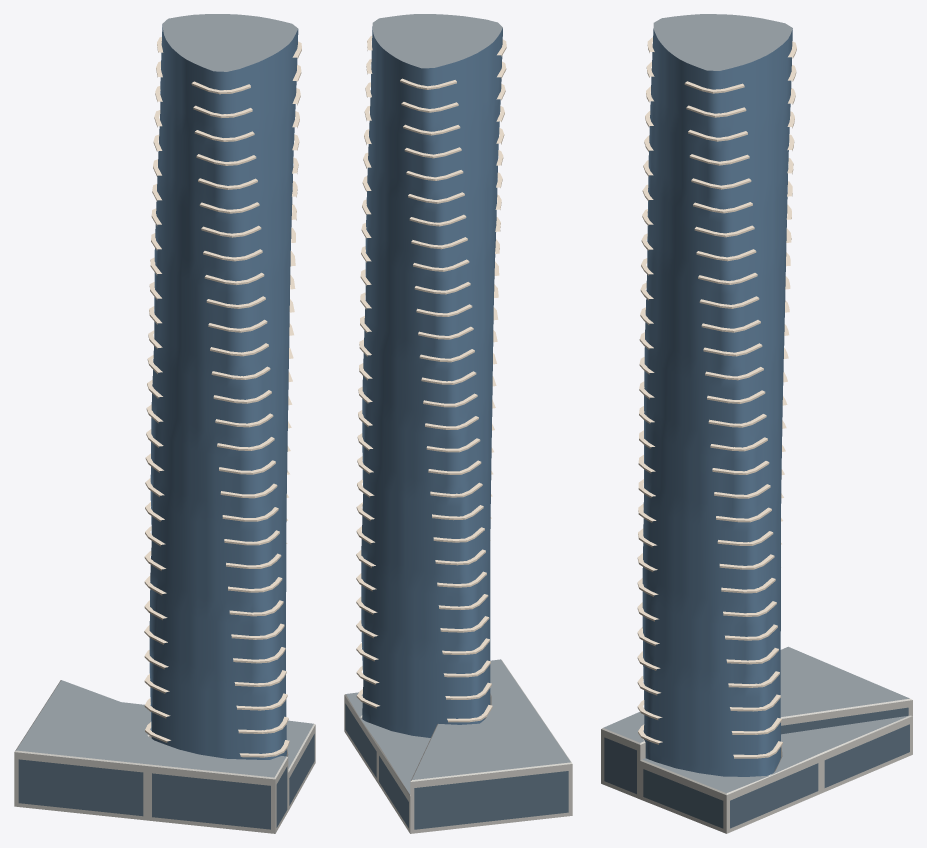
The model's file is van-paradox-hotel.glb.
3 views of the same model, side by side, from view 1: azimuth 30°, elevation 25°; view 2: azimuth 150°, elevation 25°; view 3: azimuth 270°, elevation 25° (orthographic). The views are drawn at different scales.
Parts seen in each view (by area): view 1: Paradox Hotel Vancouver; view 2: Paradox Hotel Vancouver; view 3: Paradox Hotel Vancouver.
Part boxes in pixels (x1,y1,x2,y2): Paradox Hotel Vancouver: (14, 14, 315, 833); Paradox Hotel Vancouver: (344, 14, 572, 833); Paradox Hotel Vancouver: (601, 14, 912, 833).
Bounding box in the file's own units: 71.1 × 188 × 70.8.
